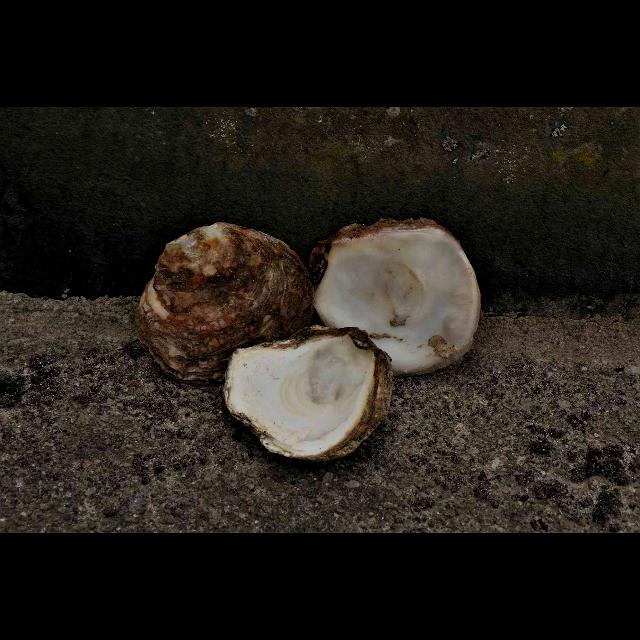Oyster-Closed: (138, 222, 314, 384)
Oyster-Open: (309, 218, 481, 376), (224, 326, 392, 462)
